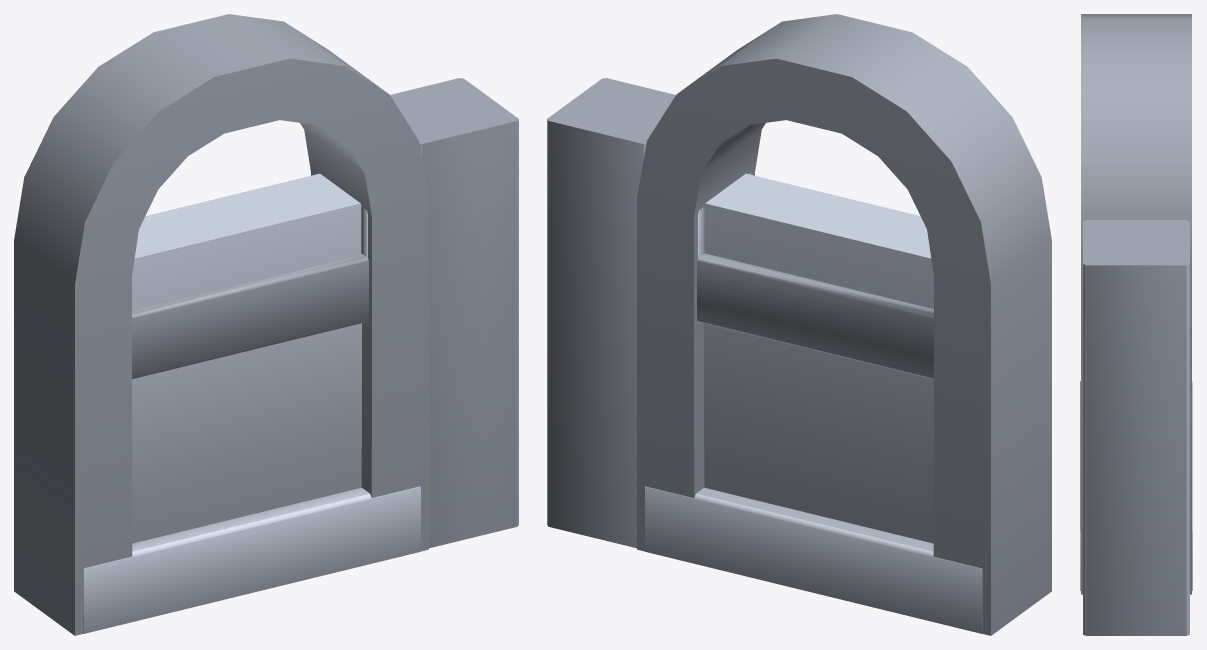
Rendered from monster-city-Tiles.fbx.
The picture shows the model from 3 angles, left to right: view 1: azimuth 30°, elevation 25°; view 2: azimuth 150°, elevation 25°; view 3: azimuth 270°, elevation 25°; orthographic projection. The views are drawn at different scales.
Visible parts, largest first — view 1: Circle, Cube, Cube.003, Cube.002, Cube.001; view 2: Circle, Cube, Cube.003, Cube.001, Cube.002; view 3: Cube.003, Circle, Cube.
Part boxes in pixels (bbox=[...]): Circle: bbox=[14, 14, 428, 635]; Cube: bbox=[83, 172, 420, 633]; Cube.003: bbox=[390, 78, 518, 548]; Cube.002: bbox=[132, 180, 361, 542]; Cube.001: bbox=[132, 173, 361, 542]; Circle: bbox=[637, 14, 1051, 635]; Cube: bbox=[645, 172, 982, 633]; Cube.003: bbox=[547, 78, 675, 548]; Cube.001: bbox=[704, 174, 933, 542]; Cube.002: bbox=[704, 173, 933, 543]; Cube.003: bbox=[1083, 220, 1189, 635]; Circle: bbox=[1081, 14, 1191, 594]; Cube: bbox=[1080, 381, 1192, 590].
Bounding box in the file's own units: 2.65 × 2.97 × 0.63.
1 material, 1 textured.
